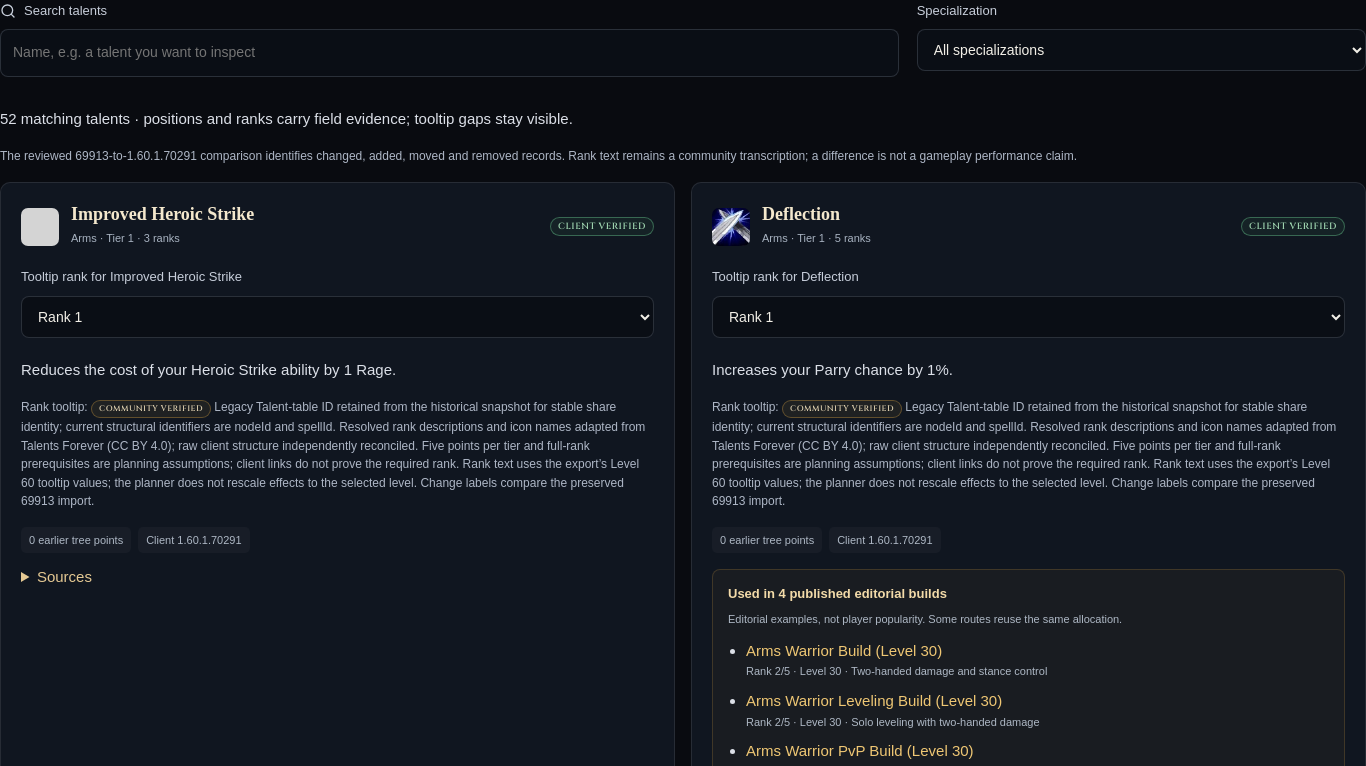
Test: searches talent names and displays only matching evidence records
Type "Piercing Howl" into the field labelled "Search talents" at (449, 53), box [0,29,899,76]
(page scrolled)
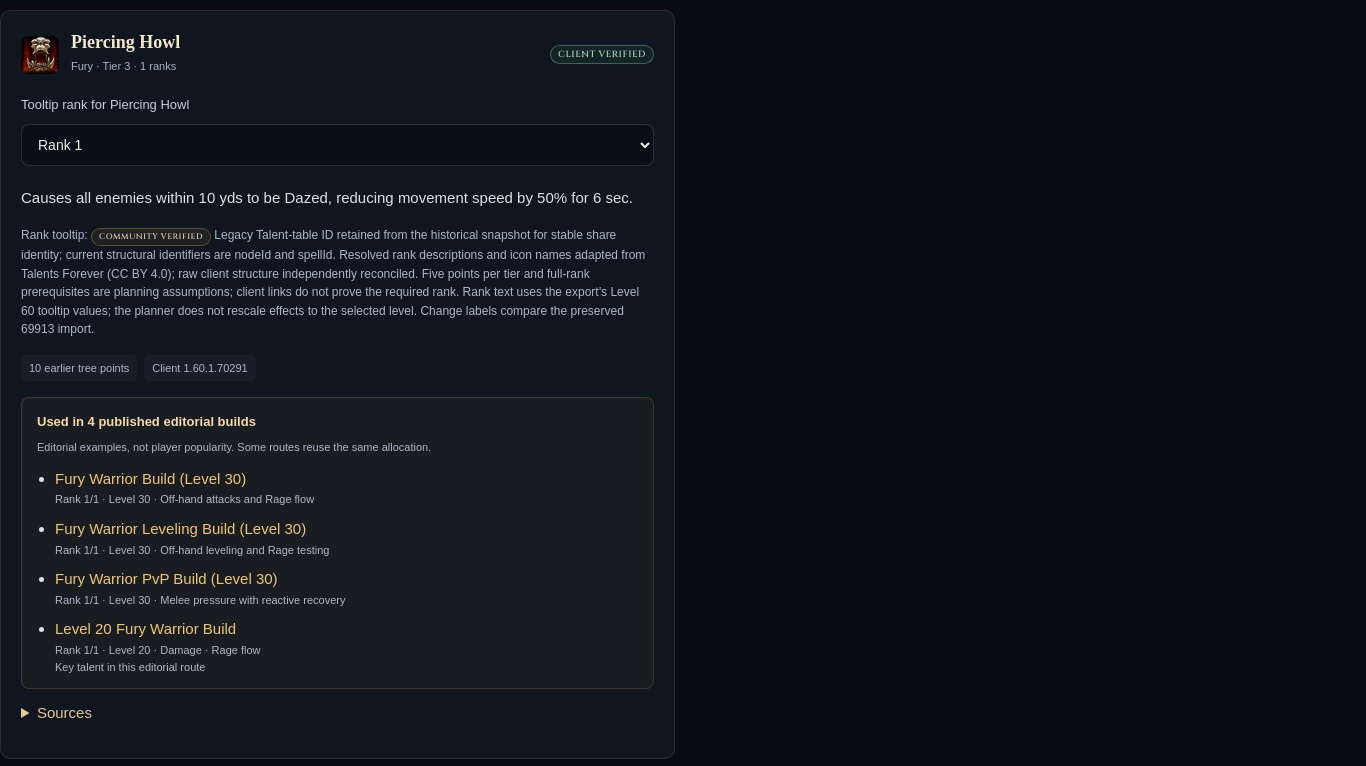
Expected: the element with test id "talent-record" shows "Piercing Howl", [71,32,180,52]
Expected: the number of elements with test id "talent-record" is 1, [0,10,675,759]
